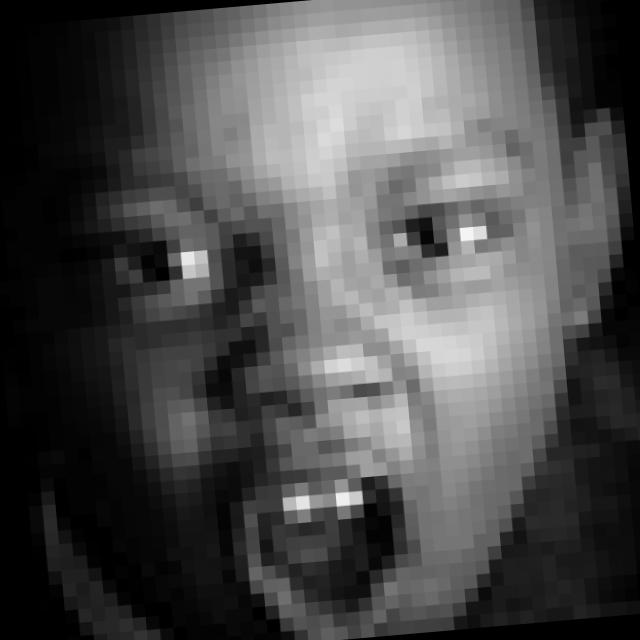angry: (73, 119, 574, 640)
